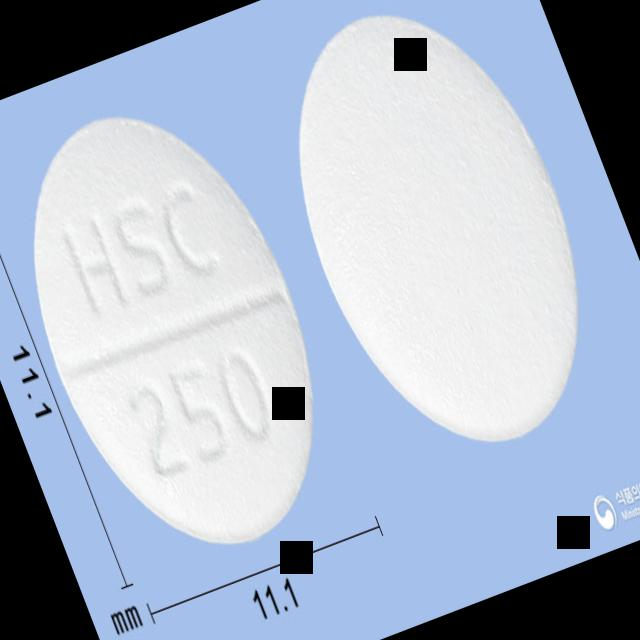Proxacinby Tab: (0, 74, 369, 587)
